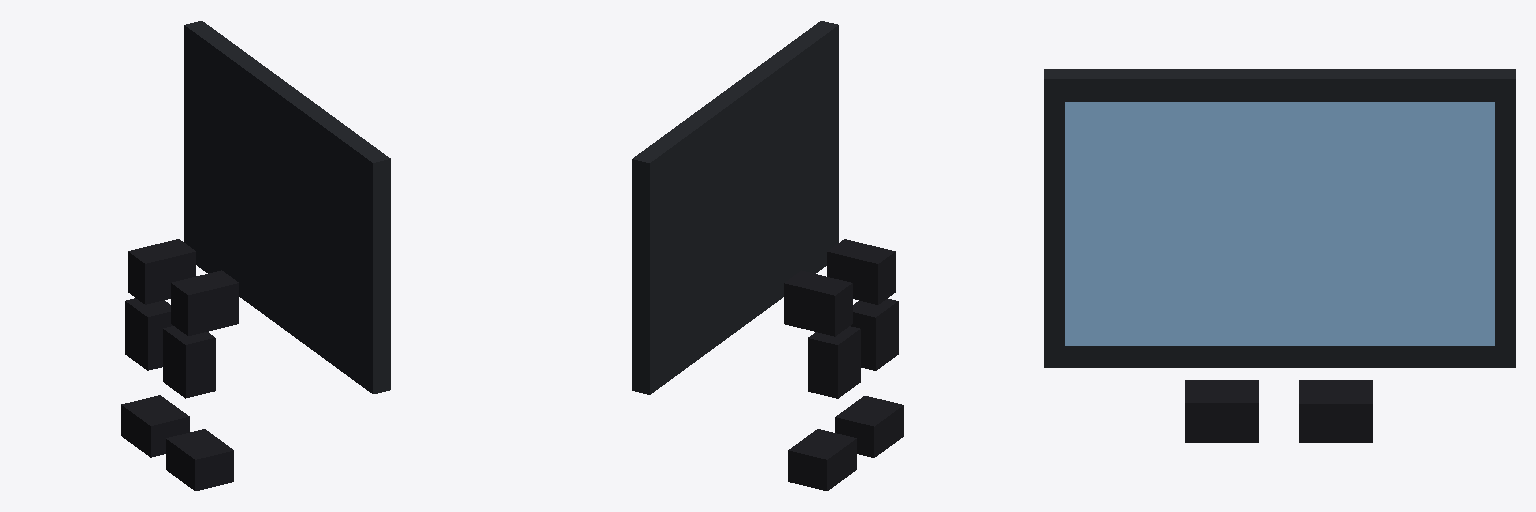
The robot description file, URDF, robot "haetburi":
<?xml version="1.0"?>
<!-- Haetburi biped (v18_xc330) - generated by tools/build_model.py, do not edit by hand -->
<robot name="haetburi">
  <mujoco>
    <compiler meshdir="." balanceinertia="true" discardvisual="false" strippath="false" fusestatic="false"/>
  </mujoco>
  <material name="display"><color rgba="0.18 0.19 0.21 1"/></material>
  <material name="screen"><color rgba="0.62 0.80 0.95 1"/></material>
  <material name="shell"><color rgba="0.106 0.216 0.541 1"/></material>
  <material name="motor"><color rgba="0.15 0.15 0.17 1"/></material>
  <material name="foot"><color rgba="0.25 0.25 0.28 1"/></material>
  <link name="world"/>
  <joint name="floating_base" type="floating">
    <parent link="world"/><child link="pelvis"/>
    <origin xyz="0 0 0" rpy="0 0 0"/>
  </joint>
  <link name="pelvis">
    <inertial>
      <origin xyz="-0.0090436 -7.49878e-05 0.0476279" rpy="0 0 0"/>
      <mass value="0.304545"/>
      <inertia ixx="0.000348258" ixy="2.77124e-07" ixz="0.000116276" iyy="0.000466695" iyz="-3.68852e-07" izz="0.00038778"/>
    </inertial>
    <visual><origin xyz="0 0 0" rpy="0 0 0"/><geometry><mesh filename="meshes/pelvis.stl"/></geometry><material name="shell"/></visual>
    <visual><origin xyz="0.0153026 0.0245857 0.0585" rpy="0 0 0"/><geometry><box size="0.034 0.02 0.026"/></geometry><material name="motor"/></visual>
    <visual><origin xyz="0.0152974 -0.024889 0.0585" rpy="0 0 0"/><geometry><box size="0.034 0.02 0.026"/></geometry><material name="motor"/></visual>
    <collision><origin xyz="0.0074988 -0.000146911 0.0267541" rpy="0 0 0"/><geometry><box size="0.089907 0.119391 0.0514117"/></geometry></collision>
  </link>
  <link name="torso">
    <inertial>
      <origin xyz="0.0209973 0.000105379 0.131628" rpy="0 0 0"/>
      <mass value="2.15535"/>
      <inertia ixx="0.0354852" ixy="-0.000105161" ixz="0.0063203" iyy="0.0356991" iyz="-0.000100818" izz="0.0195041"/>
    </inertial>
    <visual><origin xyz="0 0 0" rpy="0 0 0"/><geometry><mesh filename="meshes/torso.stl"/></geometry><material name="shell"/></visual>
    <visual><origin xyz="0.0843686 0 0.0406669" rpy="0 0 0"/><geometry><box size="0.011868 0.217236 0.146854"/></geometry><material name="display"/></visual>
    <visual><origin xyz="0.0903026 0 0.0406669" rpy="0 0 0"/><geometry><box size="0.0004 0.198144 0.12384"/></geometry><material name="screen"/></visual>
    <collision><origin xyz="-0.0391719 -1.82352e-06 0.0288995" rpy="0 0 0"/><geometry><box size="0.183869 0.124676 0.122779"/></geometry></collision>
    <collision><origin xyz="0.0478332 0.0965728 0.0582346" rpy="0 0 0"/><geometry><sphere radius="0.0698567"/></geometry></collision>
    <collision><origin xyz="0.0481639 -0.0967208 0.0582346" rpy="0 0 0"/><geometry><sphere radius="0.0697895"/></geometry></collision>
    <collision><origin xyz="-0.00600387 0.000307043 0.117894" rpy="0 0 0"/><geometry><sphere radius="0.119818"/></geometry></collision>
    <collision><origin xyz="-0.010462 -0.000141163 0.173068" rpy="0 0 0"/><geometry><sphere radius="0.138234"/></geometry></collision>
    <collision><origin xyz="-0.0159306 -0.000232984 0.22825" rpy="0 0 0"/><geometry><sphere radius="0.136633"/></geometry></collision>
    <collision><origin xyz="-0.0124975 0.000984204 0.28343" rpy="0 0 0"/><geometry><sphere radius="0.118808"/></geometry></collision>
    <collision><origin xyz="-0.00739515 0.00779025 0.338644" rpy="0 0 0"/><geometry><sphere radius="0.0846824"/></geometry></collision>
    <collision><origin xyz="-0.0135526 -0.00257485 0.393809" rpy="0 0 0"/><geometry><sphere radius="0.0491437"/></geometry></collision>
    <collision><origin xyz="0.0843686 0 0.0406669" rpy="0 0 0"/><geometry><box size="0.011868 0.217236 0.146854"/></geometry></collision>
  </link>
  <link name="leg_l">
    <inertial>
      <origin xyz="-0.00245106 0.00279209 -0.0253801" rpy="0 0 0"/>
      <mass value="0.0447682"/>
      <inertia ixx="1.52497e-05" ixy="1.18307e-08" ixz="8.47418e-07" iyy="1.38029e-05" iyz="7.47741e-08" izz="8.59549e-06"/>
    </inertial>
    <visual><origin xyz="0 0 0" rpy="0 0 0"/><geometry><mesh filename="meshes/leg_l.stl"/></geometry><material name="shell"/></visual>
    <collision><origin xyz="-0.00650057 0.00299216 -0.0208409" rpy="0 0 0"/><geometry><box size="0.0468988 0.0429672 0.0122817"/></geometry></collision>
  </link>
  <link name="hip_l">
    <inertial>
      <origin xyz="0 -0.0025438 0.0216296" rpy="0 0 0"/>
      <mass value="0.0330524"/>
      <inertia ixx="3.79165e-06" ixy="0" ixz="0" iyy="3.24691e-06" iyz="6.45301e-08" izz="2.07807e-06"/>
    </inertial>
    <visual><origin xyz="0 -0.003 0.0235" rpy="0 0 0"/><geometry><box size="0.02 0.026 0.034"/></geometry><material name="motor"/></visual>
  </link>
  <link name="foot_l">
    <inertial>
      <origin xyz="0.000534726 0.0073892 -0.00232158" rpy="0 0 0"/>
      <mass value="0.0798228"/>
      <inertia ixx="2.03828e-05" ixy="-9.25168e-07" ixz="-2.06221e-07" iyy="2.76056e-05" iyz="-1.38617e-06" izz="3.29687e-05"/>
    </inertial>
    <visual><origin xyz="0 0 0" rpy="0 0 0"/><geometry><mesh filename="meshes/foot_l.stl"/></geometry><material name="shell"/></visual>
    <visual><origin xyz="0 0.0088 5.38845e-19" rpy="0 0 0"/><geometry><box size="0.026 0.034 0.02"/></geometry><material name="motor"/></visual>
    <collision><origin xyz="0 0 0" rpy="0 0 0"/><geometry><mesh filename="meshes/foot_l.stl"/></geometry></collision>
  </link>
  <link name="leg_r">
    <inertial>
      <origin xyz="-0.00239893 -0.00277487 -0.0253357" rpy="0 0 0"/>
      <mass value="0.044888"/>
      <inertia ixx="1.52817e-05" ixy="-3.86195e-08" ixz="8.46142e-07" iyy="1.37173e-05" iyz="-7.93066e-08" izz="8.60553e-06"/>
    </inertial>
    <visual><origin xyz="0 0 0" rpy="0 0 0"/><geometry><mesh filename="meshes/leg_r.stl"/></geometry><material name="shell"/></visual>
    <collision><origin xyz="-0.00649864 -0.00298757 -0.0207621" rpy="0 0 0"/><geometry><box size="0.0468608 0.0430498 0.0121242"/></geometry></collision>
  </link>
  <link name="hip_r">
    <inertial>
      <origin xyz="0 0.0025438 0.0216296" rpy="0 0 0"/>
      <mass value="0.0330524"/>
      <inertia ixx="3.79165e-06" ixy="0" ixz="0" iyy="3.24691e-06" iyz="-6.45301e-08" izz="2.07807e-06"/>
    </inertial>
    <visual><origin xyz="0 0.003 0.0235" rpy="0 0 0"/><geometry><box size="0.02 0.026 0.034"/></geometry><material name="motor"/></visual>
  </link>
  <link name="foot_r">
    <inertial>
      <origin xyz="0.000868835 -0.00717632 -0.00236172" rpy="0 0 0"/>
      <mass value="0.0796564"/>
      <inertia ixx="2.02028e-05" ixy="1.0119e-06" ixz="-2.24454e-07" iyy="2.75114e-05" iyz="1.34772e-06" izz="3.28357e-05"/>
    </inertial>
    <visual><origin xyz="0 0 0" rpy="0 0 0"/><geometry><mesh filename="meshes/foot_r.stl"/></geometry><material name="shell"/></visual>
    <visual><origin xyz="0 -0.0088 5.38845e-19" rpy="0 0 0"/><geometry><box size="0.026 0.034 0.02"/></geometry><material name="motor"/></visual>
    <collision><origin xyz="0 0 0" rpy="0 0 0"/><geometry><mesh filename="meshes/foot_r.stl"/></geometry></collision>
  </link>
  <joint name="waist_fixed" type="fixed">
    <parent link="pelvis"/><child link="torso"/>
    <origin xyz="0 0 0.05246" rpy="0 0 0"/>
  </joint>
  <joint name="hip_yaw_l" type="revolute">
    <parent link="pelvis"/><child link="hip_l"/>
    <origin xyz="0.00650265 0.0245857 0" rpy="0 0 0"/>
    <axis xyz="0 0 1"/>
    <limit lower="-0.401426" upper="0.401426" effort="1.0" velocity="7.43"/>
    <dynamics damping="0.07142857142857144" friction="0.028571428571428574"/>
  </joint>
  <joint name="hip_pitch_l" type="revolute">
    <parent link="hip_l"/><child link="leg_l"/>
    <origin xyz="0 -0.003 0.0147" rpy="0 0 0"/>
    <axis xyz="0 1 0"/>
    <limit lower="-0.523599" upper="0.418879" effort="1.0" velocity="7.43"/>
    <dynamics damping="0.07142857142857144" friction="0.028571428571428574"/>
  </joint>
  <joint name="hip_yaw_r" type="revolute">
    <parent link="pelvis"/><child link="hip_r"/>
    <origin xyz="0.00649735 -0.024889 0" rpy="0 0 0"/>
    <axis xyz="0 0 1"/>
    <limit lower="-0.401426" upper="0.401426" effort="1.0" velocity="7.43"/>
    <dynamics damping="0.07142857142857144" friction="0.028571428571428574"/>
  </joint>
  <joint name="hip_pitch_r" type="revolute">
    <parent link="hip_r"/><child link="leg_r"/>
    <origin xyz="0 0.003 0.0147" rpy="0 0 0"/>
    <axis xyz="0 1 0"/>
    <limit lower="-0.523599" upper="0.418879" effort="1.0" velocity="7.43"/>
    <dynamics damping="0.07142857142857144" friction="0.028571428571428574"/>
  </joint>
  <joint name="ankle_roll_l" type="revolute">
    <parent link="leg_l"/><child link="foot_l"/>
    <origin xyz="0.00518133 -0.00442343 -0.05394" rpy="0 0 0"/>
    <axis xyz="1 0 0"/>
    <limit lower="-0.261799" upper="0.261799" effort="1.0" velocity="7.43"/>
    <dynamics damping="0.07142857142857144" friction="0.028571428571428574"/>
  </joint>
  <joint name="ankle_roll_r" type="revolute">
    <parent link="leg_r"/><child link="foot_r"/>
    <origin xyz="0.00444167 0.00399945 -0.05394" rpy="0 0 0"/>
    <axis xyz="1 0 0"/>
    <limit lower="-0.261799" upper="0.261799" effort="1.0" velocity="7.43"/>
    <dynamics damping="0.07142857142857144" friction="0.028571428571428574"/>
  </joint>
</robot>

--- Render facts (derived) ---
3 views of the same robot in one strip: view 1: azimuth 30°, elevation 25°; view 2: azimuth 150°, elevation 25°; view 3: azimuth 270°, elevation 25° (orthographic).
Robot: haetburi — 9 links, 8 joints (6 revolute, 1 fixed, 1 floating); root link world; default pose: every joint at zero.
Visible links, largest first — view 1: torso, pelvis, foot_r, hip_r, foot_l, hip_l; view 2: torso, pelvis, foot_l, hip_l, foot_r, hip_r; view 3: torso, foot_l, foot_r.
Link boxes in pixels (<box>): torso: <box>184,21,390,393</box>; pelvis: <box>128,239,238,335</box>; foot_r: <box>166,429,233,490</box>; hip_r: <box>163,326,215,398</box>; foot_l: <box>121,395,189,457</box>; hip_l: <box>125,298,172,370</box>; torso: <box>632,21,838,394</box>; pelvis: <box>784,239,895,336</box>; foot_l: <box>788,429,856,490</box>; hip_l: <box>808,326,860,398</box>; foot_r: <box>835,396,903,457</box>; hip_r: <box>851,299,898,370</box>; torso: <box>1044,69,1515,367</box>; foot_l: <box>1299,380,1372,442</box>; foot_r: <box>1185,380,1258,442</box>.
Bounding box of the posed robot: 0.094 × 0.2172 × 0.2158 m (x, y, z).
0 mesh visuals loaded from 6 distinct referenced files (none loaded); not drawn: 6 (reference not matched to a file when rendering).
